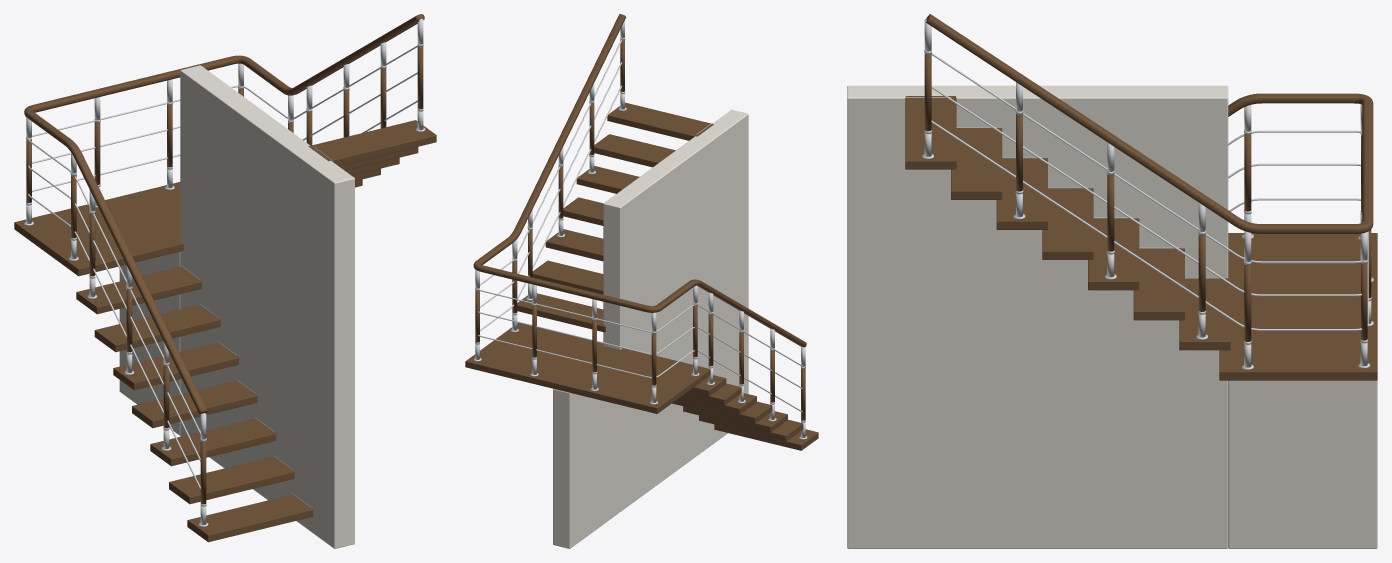
File: console-CRzf1ZKv.glb
3 views of the same model, side by side, from view 1: azimuth 30°, elevation 25°; view 2: azimuth 150°, elevation 25°; view 3: azimuth 270°, elevation 25° (orthographic). The views are drawn at different scales.
Visible parts, largest first — view 1: Wall bearing spine, Rail continuous lacquered handrail, Hardware fixing screw; view 2: Wall bearing spine, Rail continuous lacquered handrail, Hardware fixing screw; view 3: Wall bearing spine, Rail continuous lacquered handrail, Hardware fixing screw.
Boxes of the visible parts, <box> form: Wall bearing spine: <box>119,65,354,548</box>; Rail continuous lacquered handrail: <box>14,14,436,542</box>; Hardware fixing screw: <box>24,18,425,526</box>; Wall bearing spine: <box>553,109,748,548</box>; Rail continuous lacquered handrail: <box>465,14,818,450</box>; Hardware fixing screw: <box>473,20,807,439</box>; Wall bearing spine: <box>847,85,1377,548</box>; Rail continuous lacquered handrail: <box>905,14,1377,380</box>; Hardware fixing screw: <box>905,19,1373,369</box>.
Bounding box in the file's own units: 1.98 × 3.94 × 3.2.
